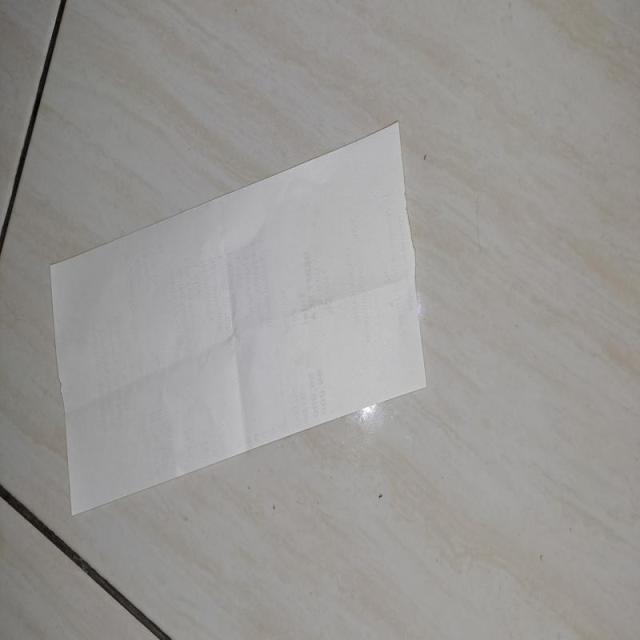Organik: (53, 113, 431, 511)
